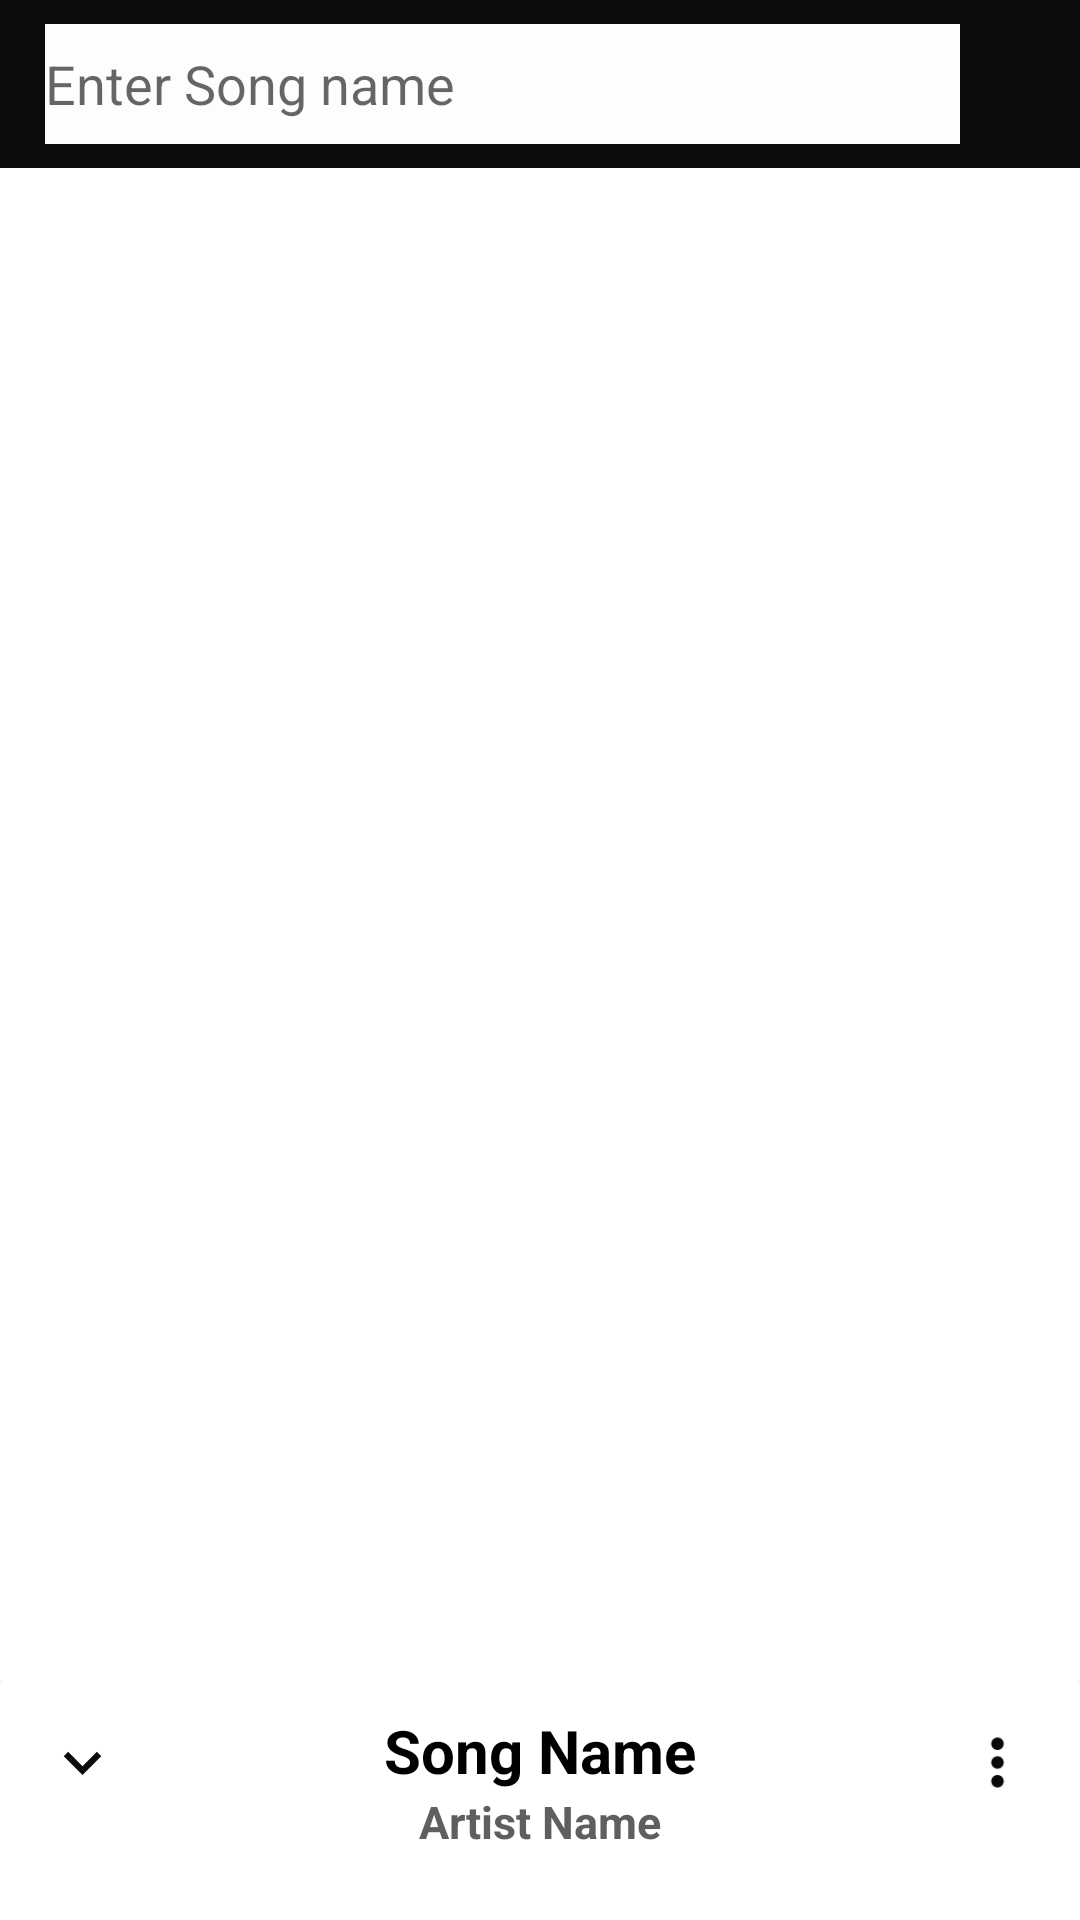

Icon click points for this 1080x1920 phone screenshot, format (x,y):
keyboard arrow down: (82,1763)
more vert: (997,1762)
